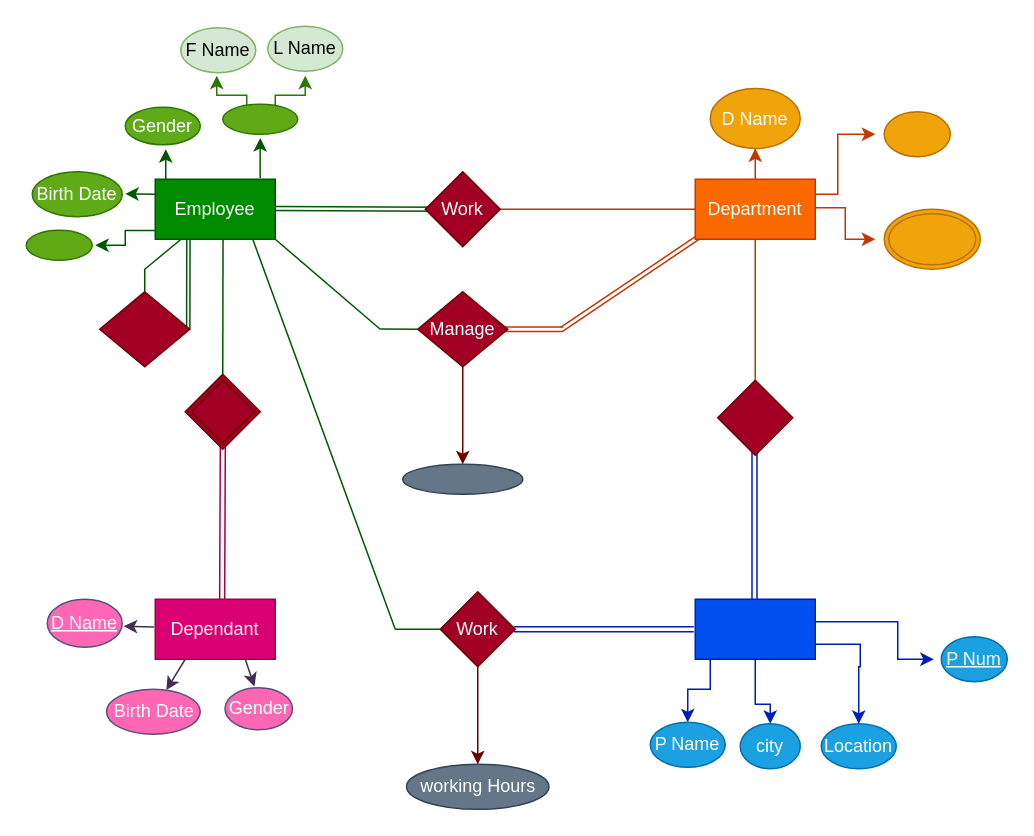
Image size: 1034x836. Some labels were removed from this diagram. The centre of each missing label's shape, as x and y in pixels:
"D Num" goes at pixel 916 133.
"has" goes at pixel 754 417.
"Have" goes at pixel 222 411.
"Hire Date" goes at pixel 462 478.
"Locations" goes at pixel 931 238.
"Name" goes at pixel 259 118.
"Project" goes at pixel 754 628.
"SSN" goes at pixel 58 244.
"Supervisor" goes at pixel 144 328.
